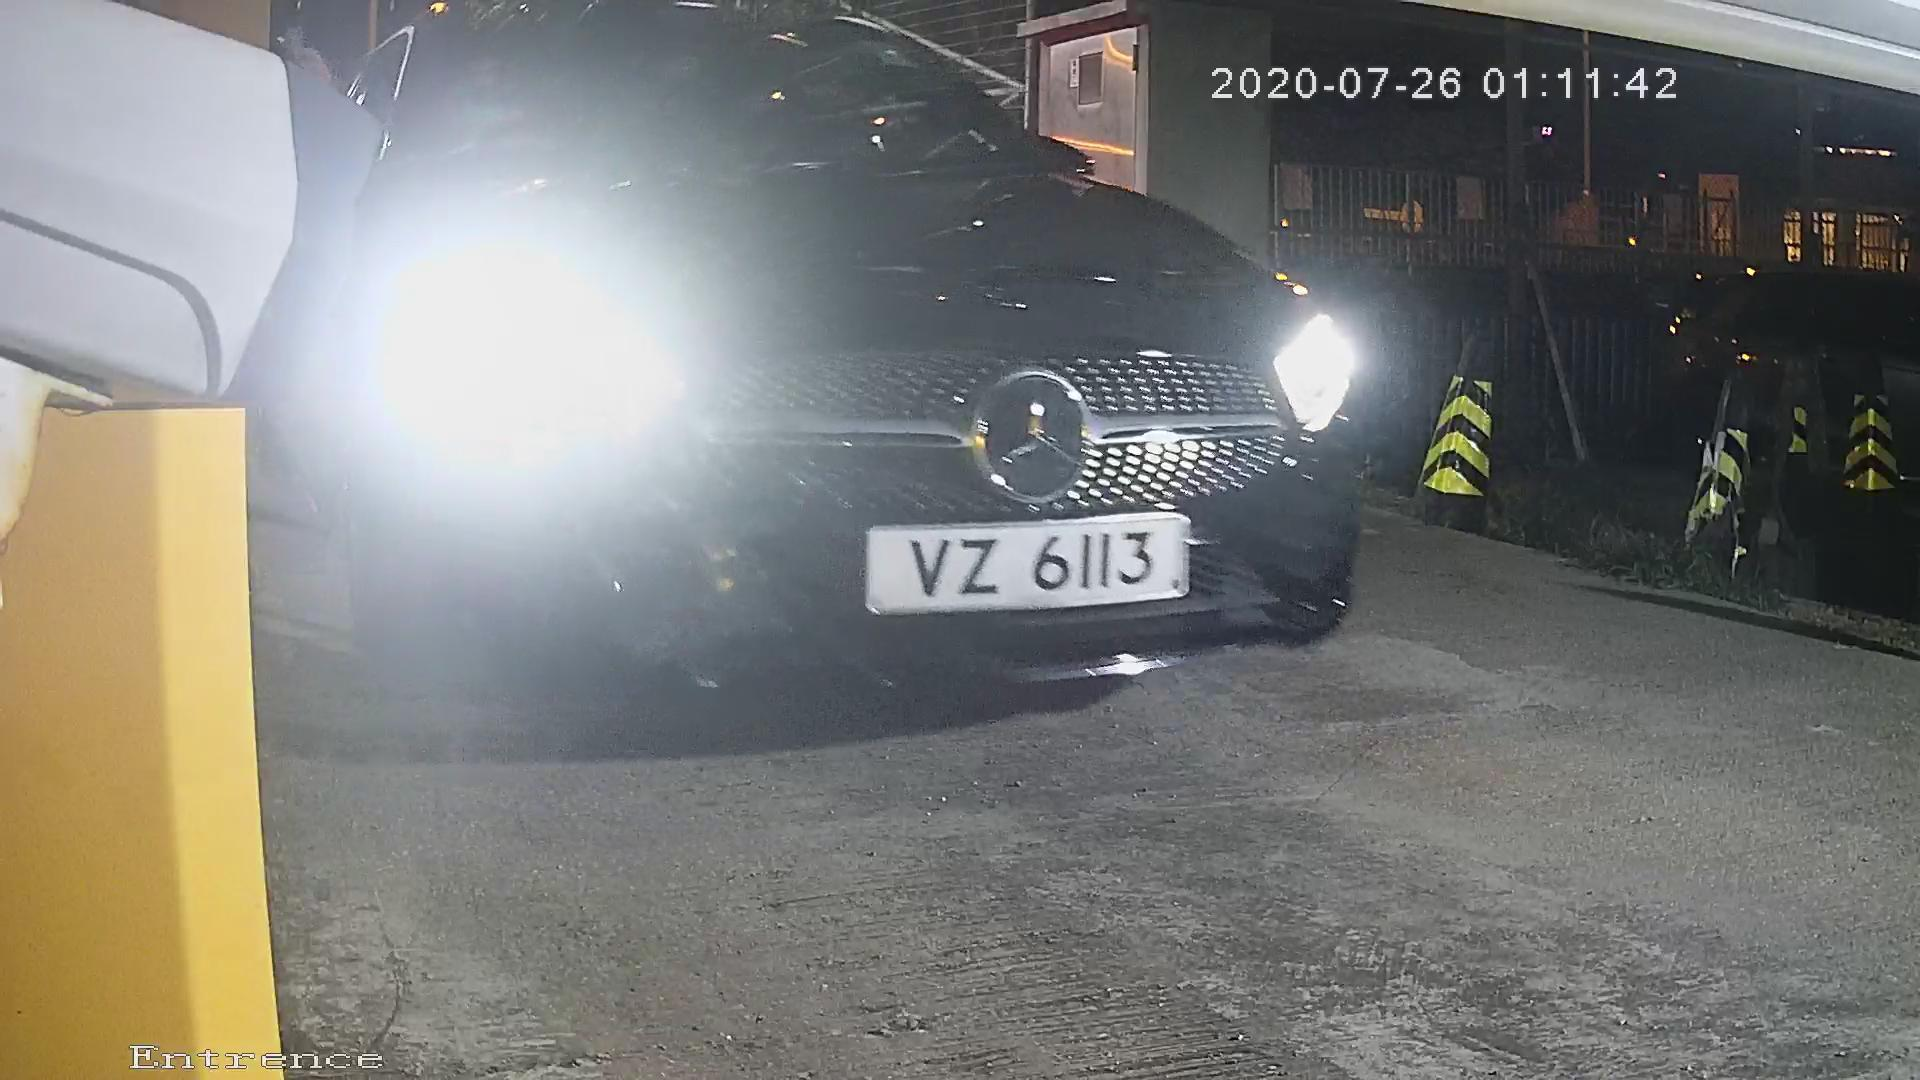privatecar: (262, 1, 1416, 744)
